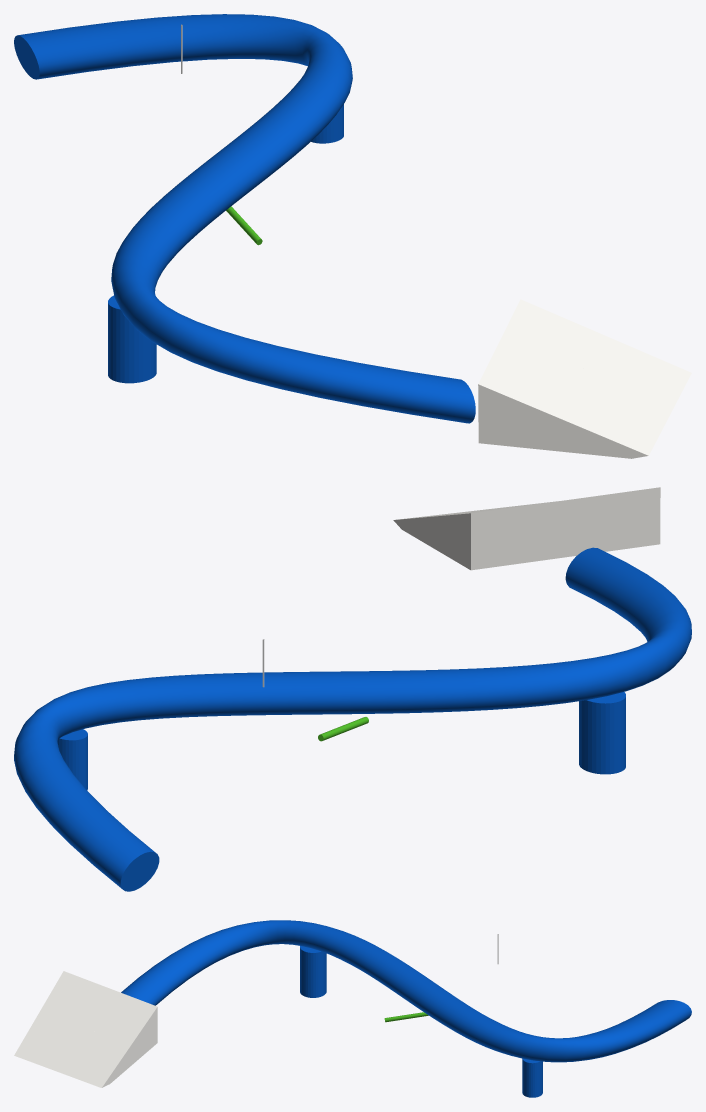
File: Trick_Features.fbx
3 views of the same model, one above another, from view 1: azimuth 30°, elevation 25°; view 2: azimuth 150°, elevation 25°; view 3: azimuth 270°, elevation 25° (orthographic). The views are drawn at different scales.
Visible parts, largest first — view 1: S Rail; view 2: S Rail; view 3: S Rail.
Boxes of the visible parts, left/top/right/bottom form: S Rail: left=14, top=14, right=691, bottom=458; S Rail: left=14, top=487, right=691, bottom=891; S Rail: left=14, top=920, right=691, bottom=1097.
Size of the model in its own units: 2928 by 1251 by 6553.
